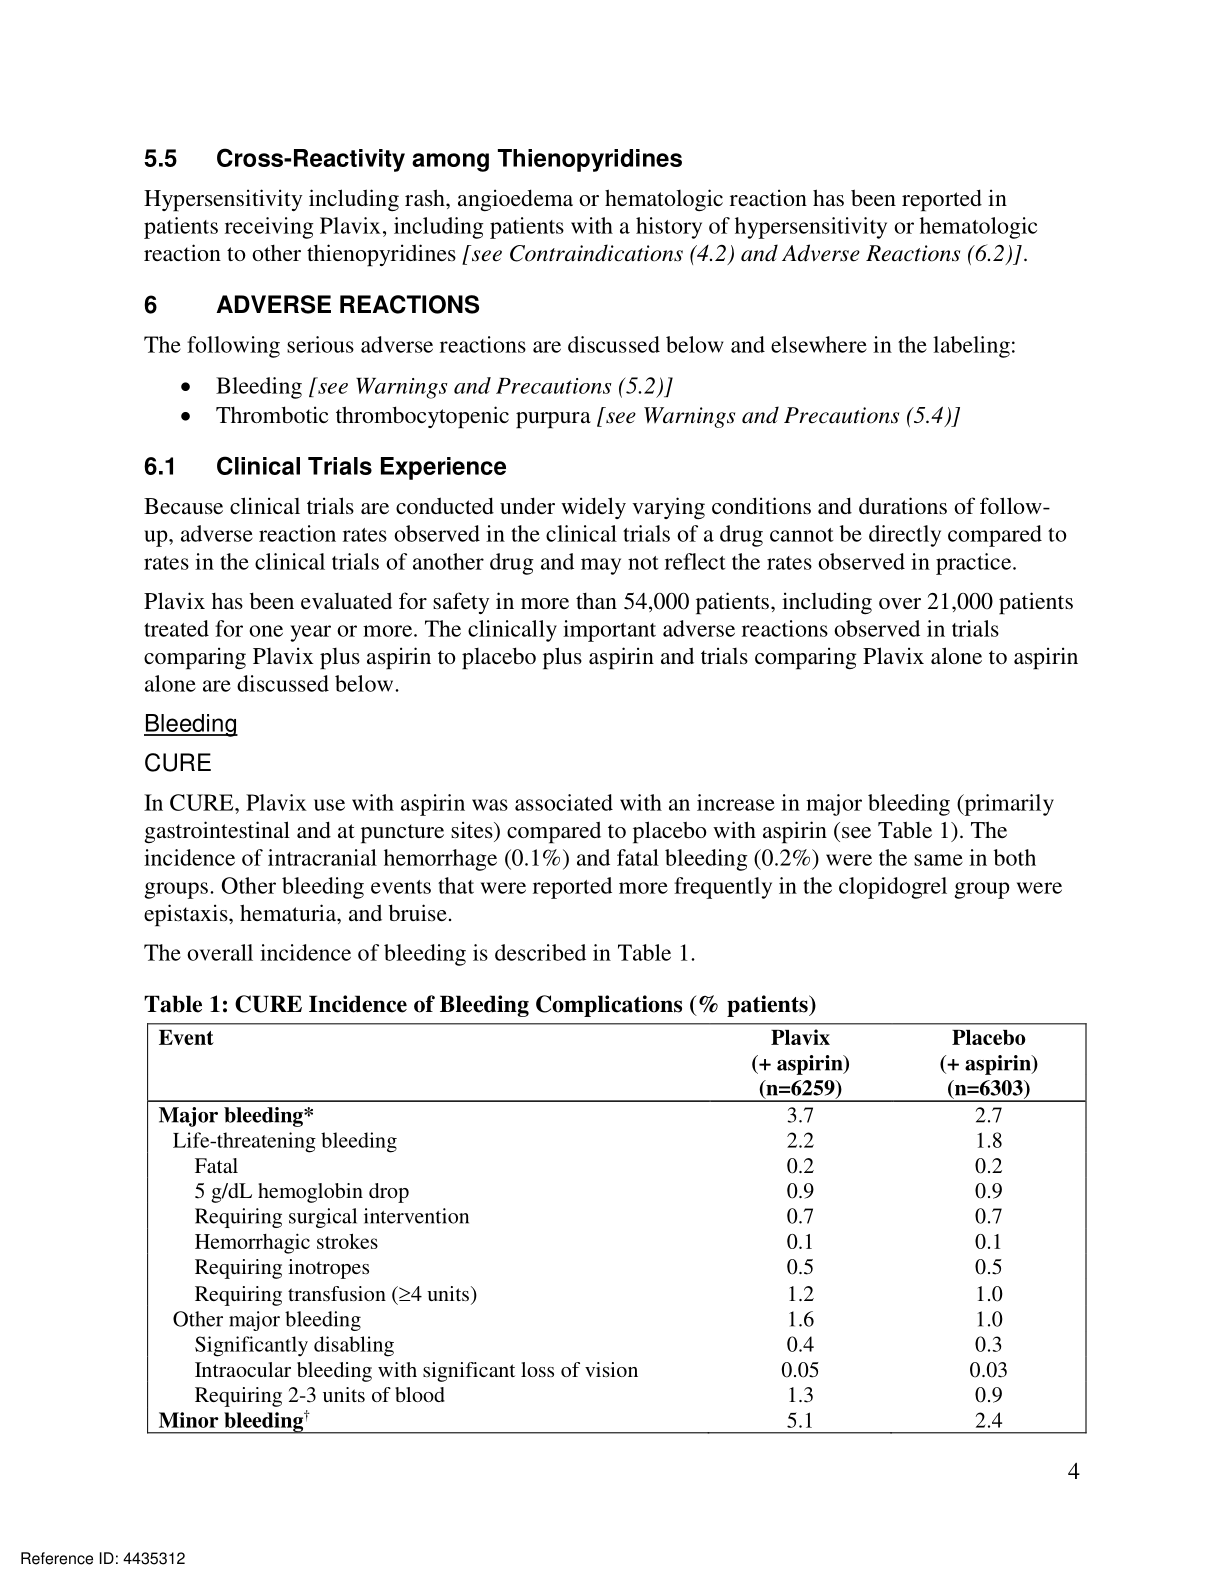partial_lined: (147, 1020, 1092, 1436)
